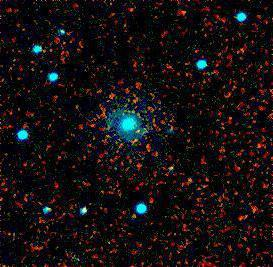star: (167, 0, 197, 24)
